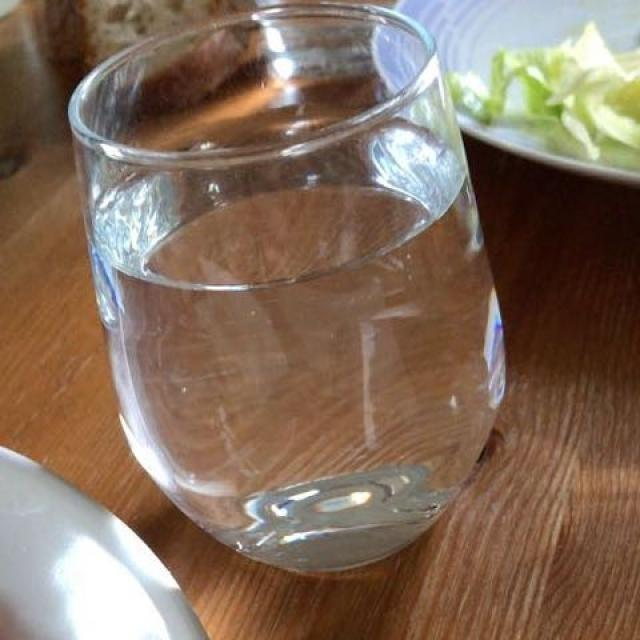water: (95, 101, 508, 598)
